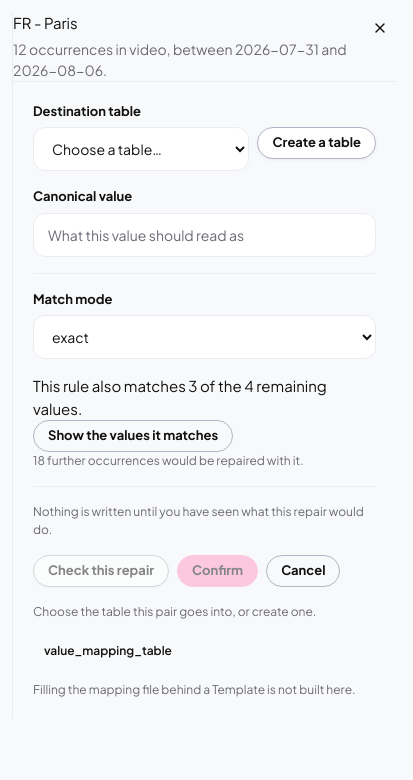
Test: S3 — the repair drawer › folds the values it matches, and unfolds them on demand
The image size is (413, 780).
Click the button with test id "repair-toggle-matches". click: (133, 436)
box: [33,420,233,452]
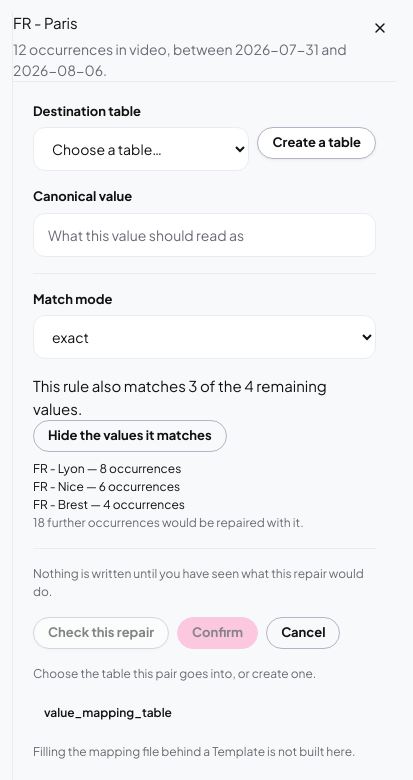
Expected: the list with test id "repair-matches" shows "FR - Lyon", [33,461,85,476]
Expected: the button with test id "repair-toggle-matches" is expanded, [33,420,227,452]
